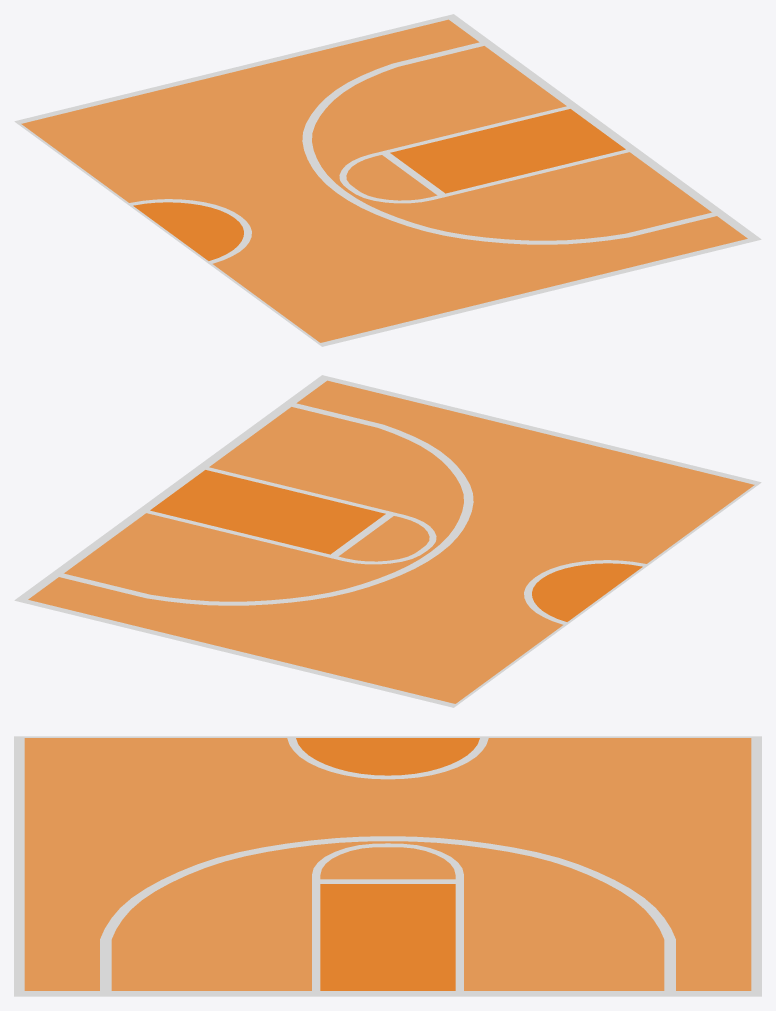
Rendered from Basketball Playground.fbx.
The picture shows the model from 3 angles, top to bottom: view 1: azimuth 30°, elevation 25°; view 2: azimuth 150°, elevation 25°; view 3: azimuth 270°, elevation 25°; orthographic projection. The views are drawn at different scales.
Parts seen in each view (by area): view 1: Basketball Playground; view 2: Basketball Playground; view 3: Basketball Playground.
Part boxes in pixels (x1=…): Basketball Playground: x1=14, y1=14, x2=761, y2=346; Basketball Playground: x1=14, y1=375, x2=761, y2=707; Basketball Playground: x1=14, y1=736, x2=761, y2=996.
Bounding box in the file's own units: 1034 × 0 × 1255.
